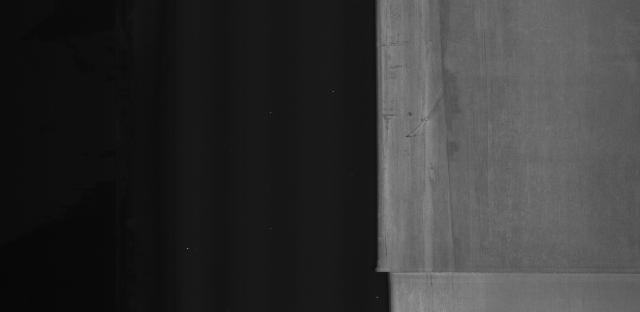welding_line: (357, 257, 638, 283)
